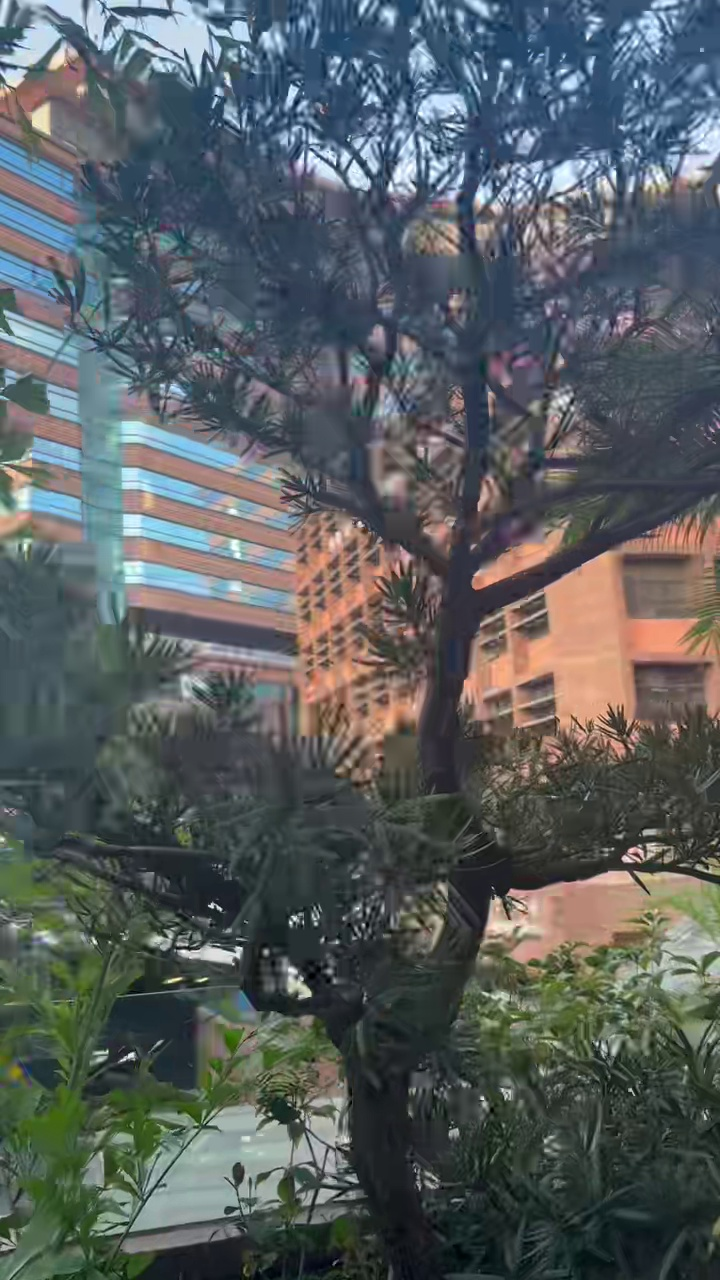Podocarpus macrophyllus: (73, 0, 719, 1279)
